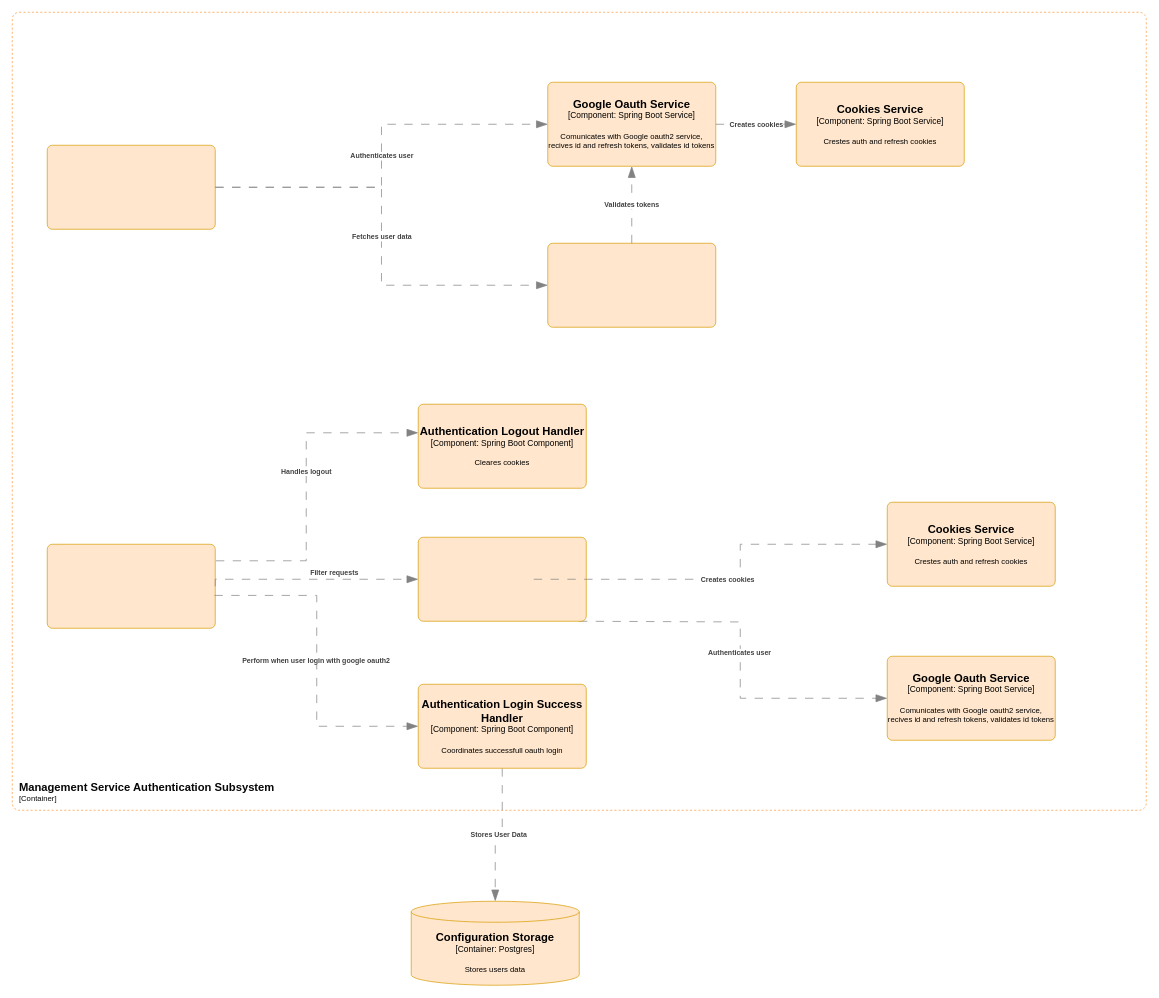
The diagram is 1159 pixels wide and 998 high, and some of its shapes have lost their labels. The shapes that lost their labels are listed below. From the top down, each one's box as (x1, y1, x2, y2) in pixels, then its label:
(47, 145, 215, 229): Authentication Controller [Component: Spring Boot Controller] Authentication API
(547, 243, 716, 327): Authentication Service [Component: Spring Boot Service] Reads data from id token
(47, 544, 215, 628): Security config [Component: Spring Boot Configuration] Controlls app security
(418, 537, 586, 621): Authentication Filter [Component: Spring Boot Service] Authentication API
